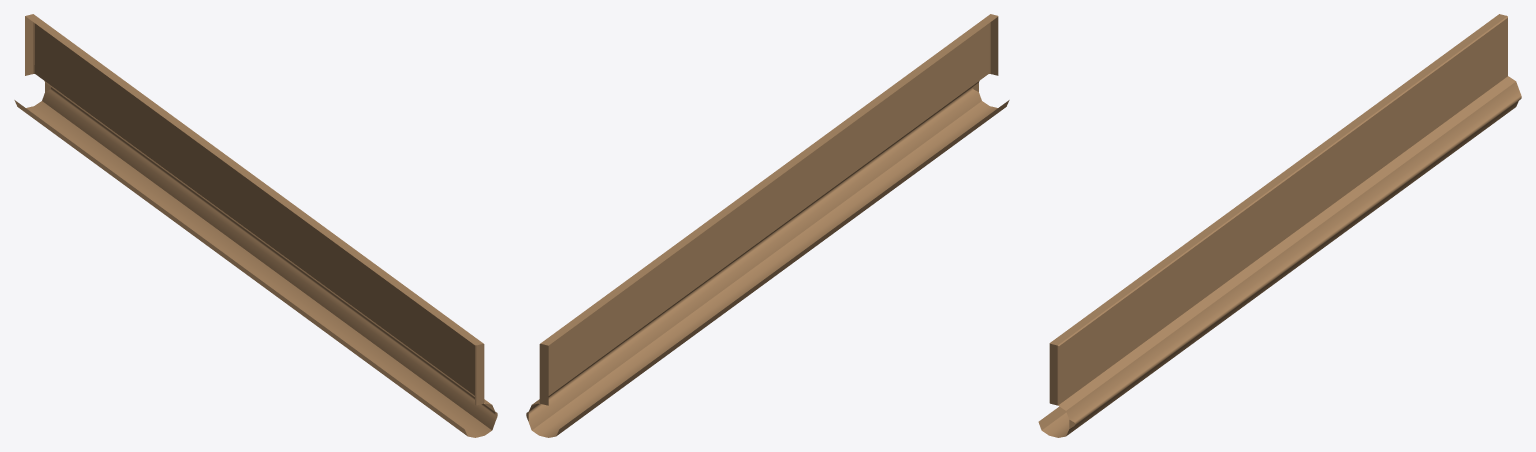
File: CurtainHolder.fbx
3 views of the same model, side by side, from view 1: azimuth 30°, elevation 25°; view 2: azimuth 150°, elevation 25°; view 3: azimuth 330°, elevation 25° (orthographic).
Visible parts, largest first — view 1: Curtain_lowres:pCube2; view 2: Curtain_lowres:pCube2; view 3: Curtain_lowres:pCube2.
Boxes of the visible parts, left/top/right/bottom form: Curtain_lowres:pCube2: left=14, top=14, right=497, bottom=437; Curtain_lowres:pCube2: left=526, top=14, right=1009, bottom=437; Curtain_lowres:pCube2: left=1038, top=14, right=1521, bottom=437.
Bounding box in the file's own units: 12.01 × 30.36 × 269.
